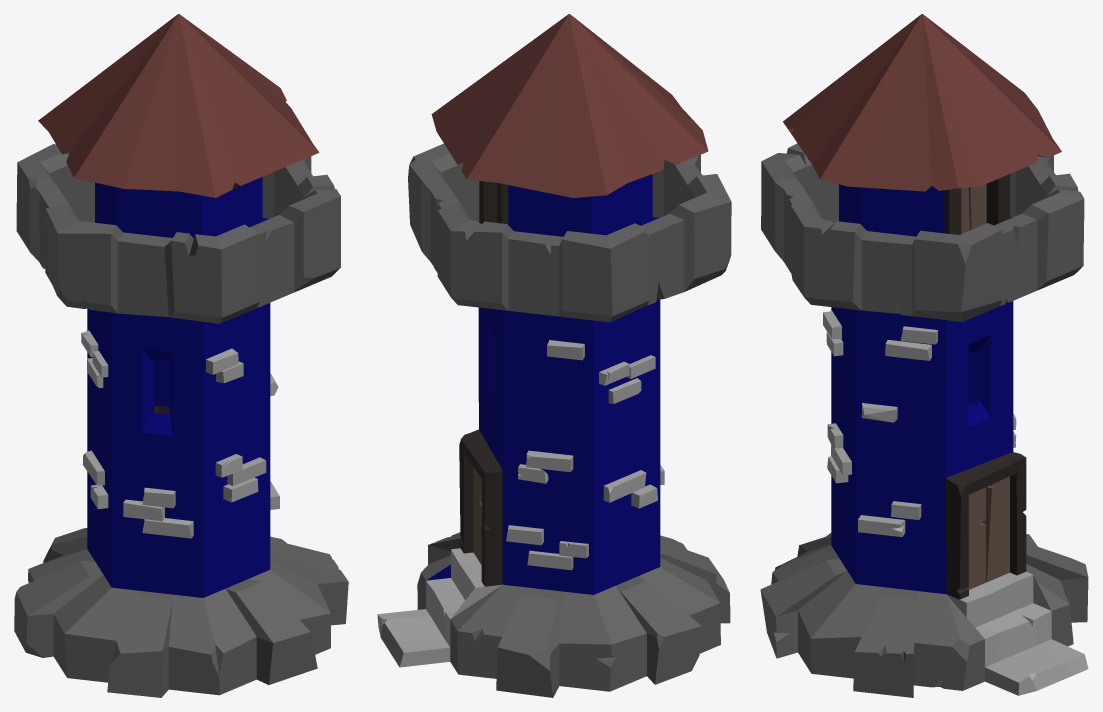
Rendered from base_blue_0.glb.
The picture shows the model from 3 angles, left to right: view 1: azimuth 30°, elevation 25°; view 2: azimuth 150°, elevation 25°; view 3: azimuth 270°, elevation 25°; orthographic projection.
Parts seen in each view (by area): view 1: Cylinder; view 2: Cylinder; view 3: Cylinder.
Boxes of the visible parts, left/top/right/bottom form: Cylinder: left=14, top=14, right=348, bottom=697; Cylinder: left=377, top=14, right=731, bottom=697; Cylinder: left=760, top=14, right=1088, bottom=697.
Size of the model in its own units: 0.49 by 1 by 0.4853.
